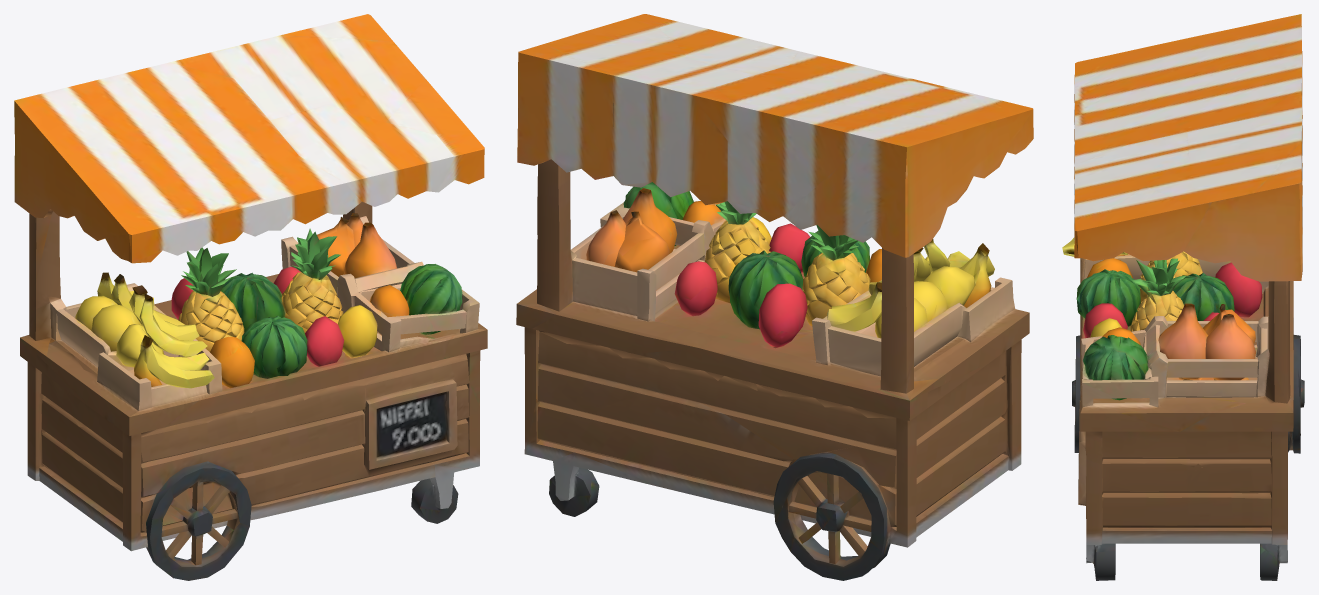
The model's file is stall_fruit.glb.
3 renders of one model, left to right at view 1: azimuth 30°, elevation 25°; view 2: azimuth 150°, elevation 25°; view 3: azimuth 270°, elevation 25°, orthographic. The views are drawn at different scales.
Visible parts, largest first — view 1: model; view 2: model; view 3: model.
Part boxes in pixels (left/top/right/bottom): model: left=14, top=14, right=487, bottom=580; model: left=516, top=14, right=1033, bottom=580; model: left=1062, top=14, right=1304, bottom=580.
Size of the model in its own units: 1.69 by 1.9 by 1.01.
1 material, 1 textured.
